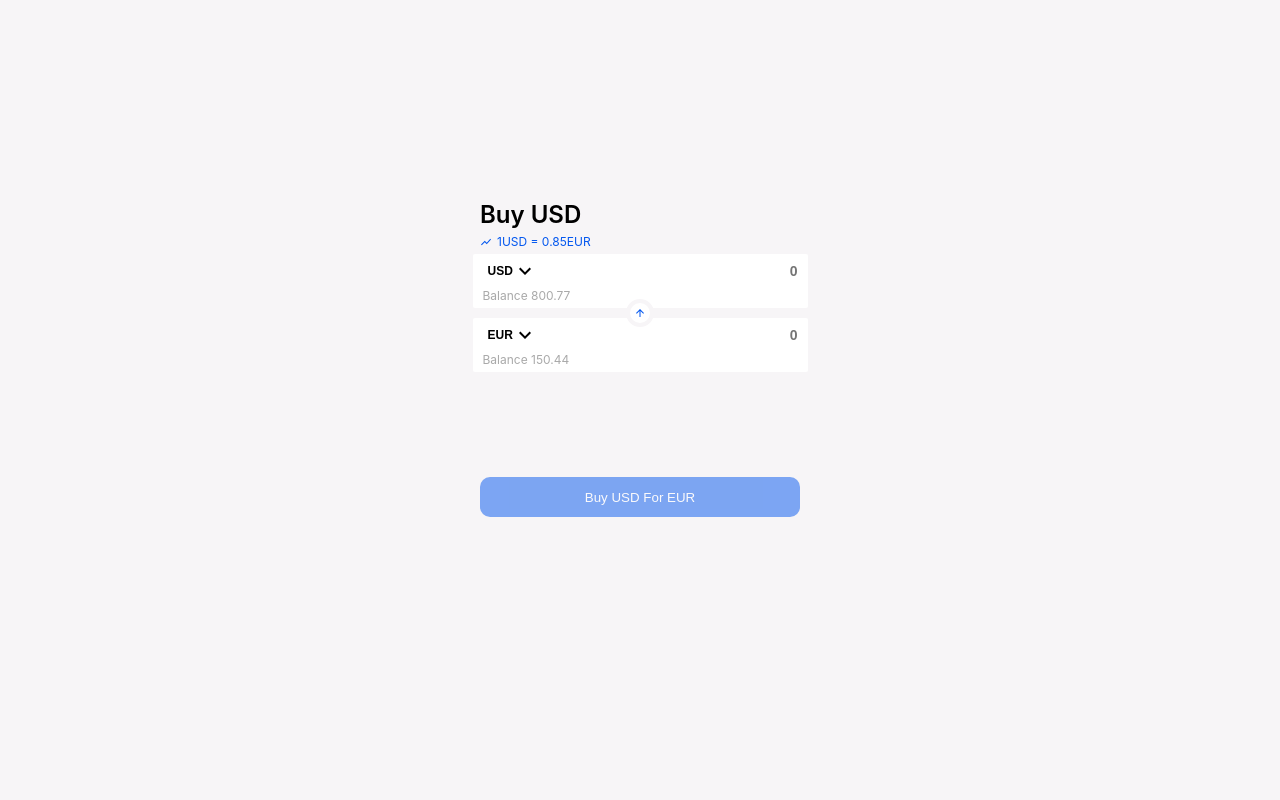
Test: should change account correctly:
Expected: the element with test id "top-container" is shown, [472,254,808,308]
Click the button with test id "change-account-btn" showing "USD": (512, 271) [478,259,547,283]
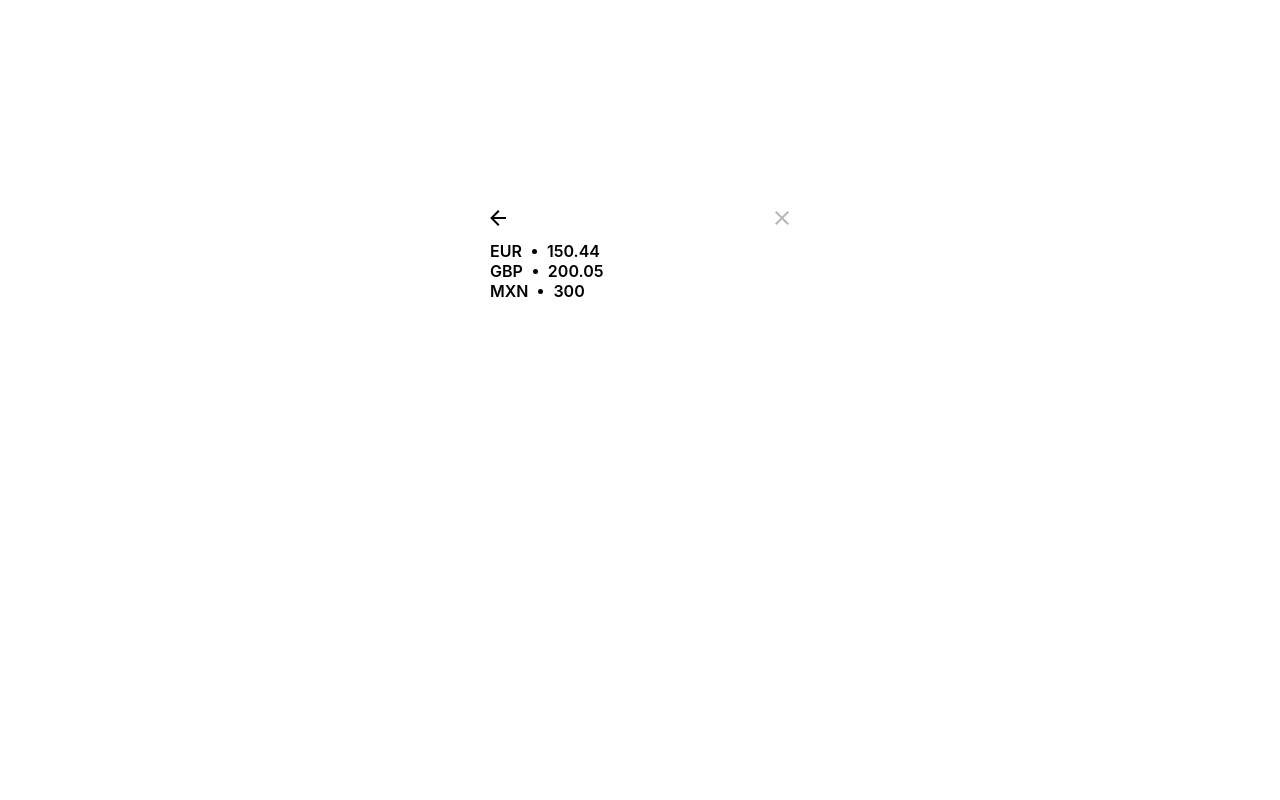
Now the list with test id "currenct-list" is shown, box [480,241,800,301]
Now the option with test id "EUR-item" is shown
Click the option with test id "EUR-item": (545, 251) [490,241,600,261]
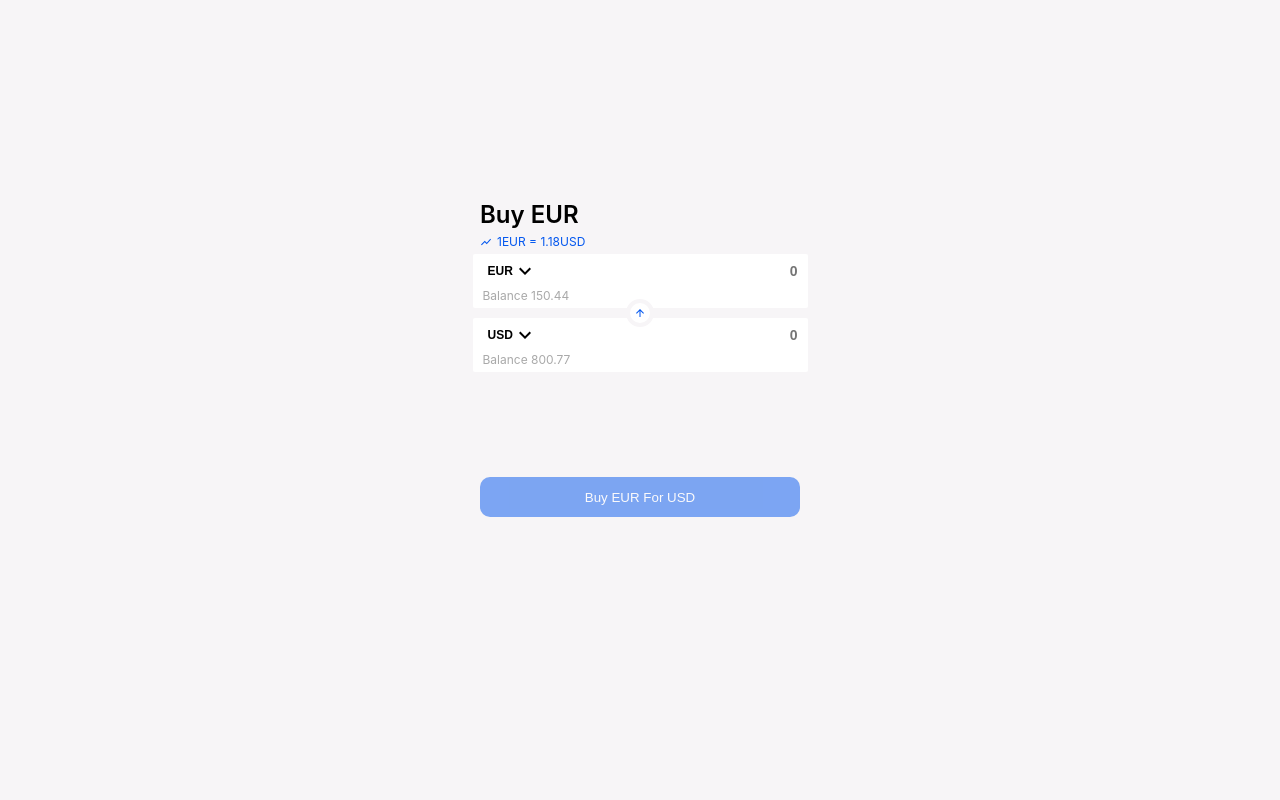
Now the text "buy EUR" is shown, box [480,200,578,229]
Now the element with test id "top-container" is shown, box [472,254,808,308]
Now the text "Balance 150.44" is shown, box [482,288,569,303]
